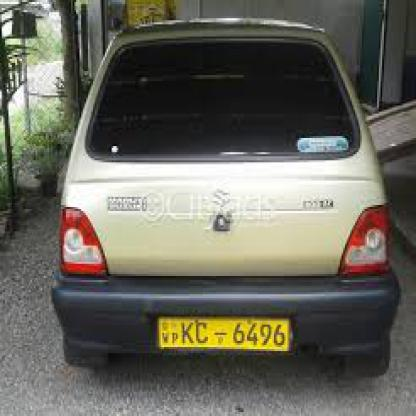car: (54, 16, 399, 382)
